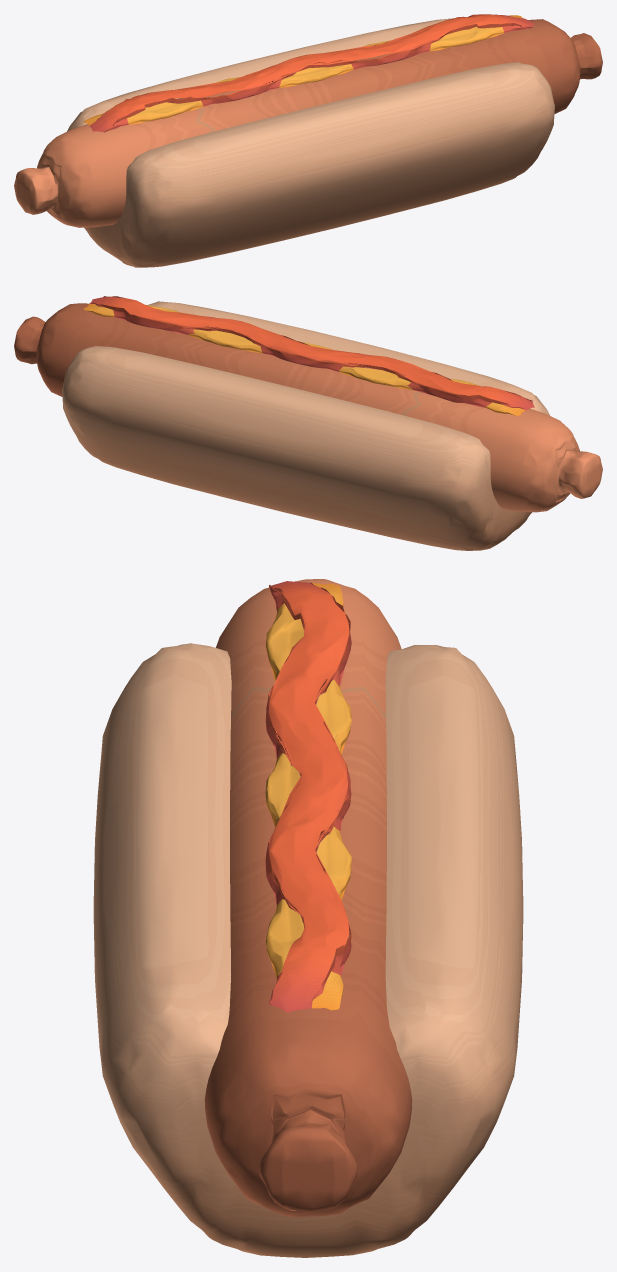
The picture shows the model from 3 angles, top to bottom: view 1: azimuth 30°, elevation 25°; view 2: azimuth 150°, elevation 25°; view 3: azimuth 270°, elevation 25°; orthographic projection. The views are drawn at different scales.
Bounding box in the file's own units: 1 × 0.2604 × 0.3262.
1 material, 1 textured.
